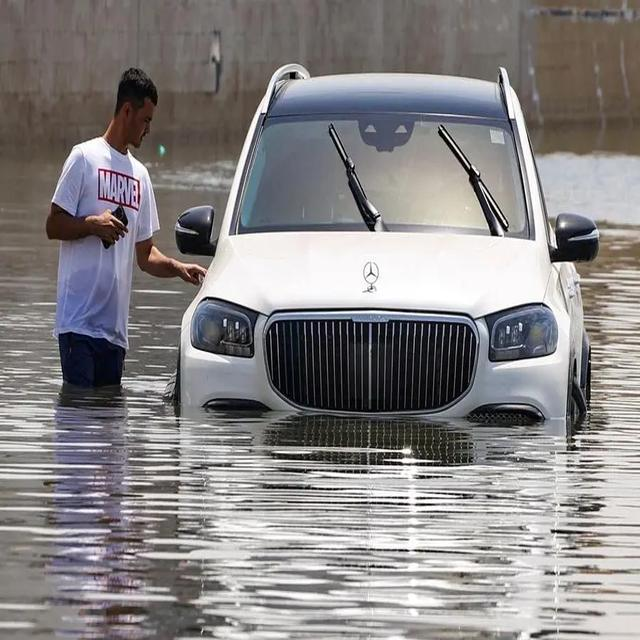Car-RiskLevel3: (156, 63, 605, 446)
Person-RiskLevel3: (38, 54, 188, 411)
